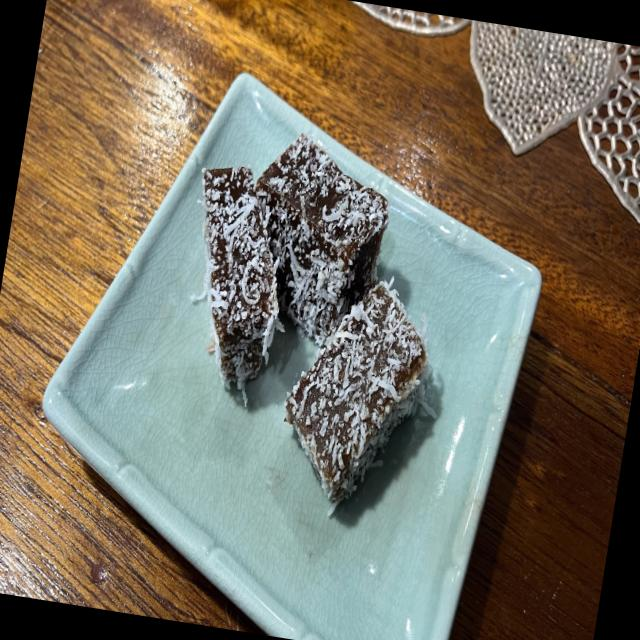kaswi: (285, 282, 427, 509), (256, 135, 389, 345), (202, 166, 279, 405)
